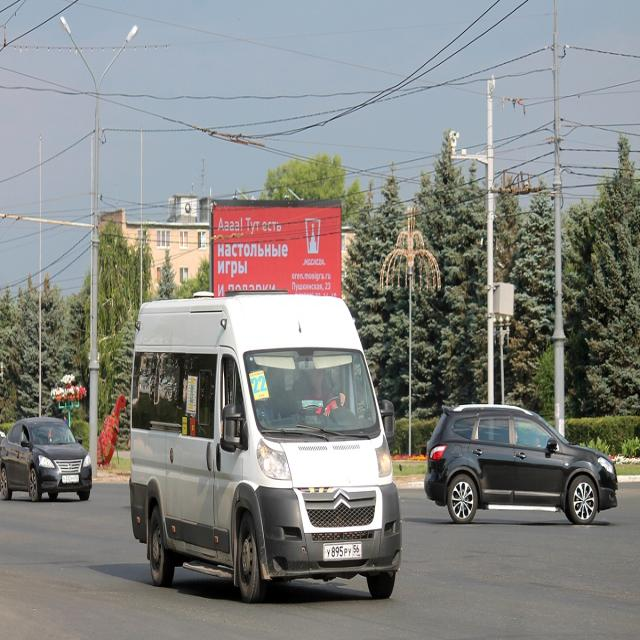number-of-bus: (251, 377, 269, 393)
